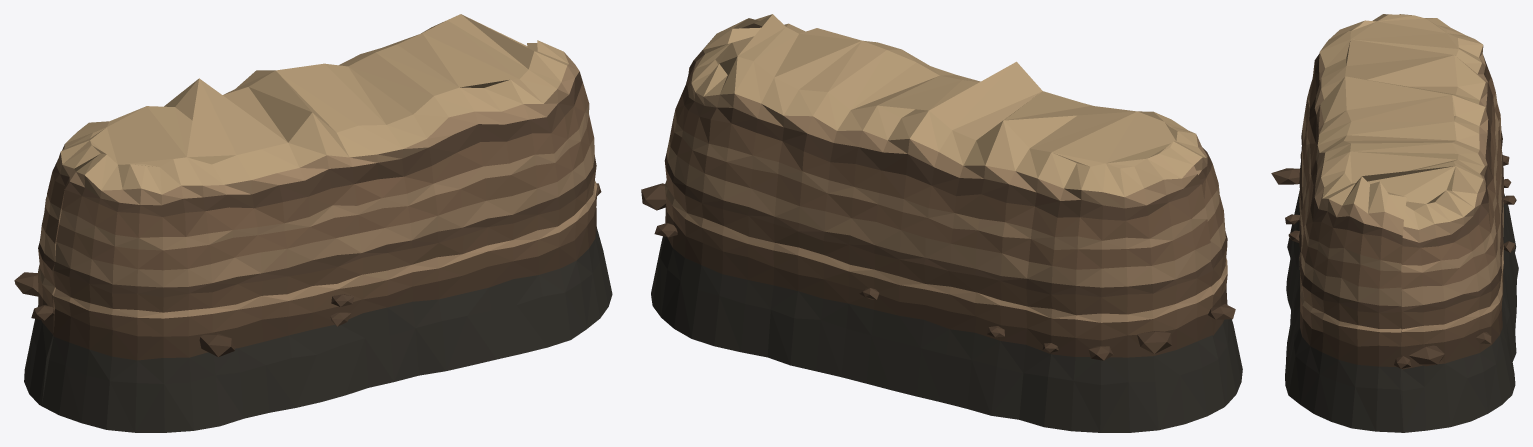
Rendered from rocha-quadrante-b.glb.
3 views of the same model, side by side, from view 1: azimuth 30°, elevation 25°; view 2: azimuth 150°, elevation 25°; view 3: azimuth 270°, elevation 25° (orthographic). The views are drawn at different scales.
Parts seen in each view (by area): view 1: rocha-quadrante-b; view 2: rocha-quadrante-b; view 3: rocha-quadrante-b.
Part boxes in pixels (bbox=[...]): rocha-quadrante-b: bbox=[14, 14, 612, 432]; rocha-quadrante-b: bbox=[641, 14, 1242, 432]; rocha-quadrante-b: bbox=[1271, 14, 1518, 432].
Size of the model in its own units: 395 by 171 by 172.
